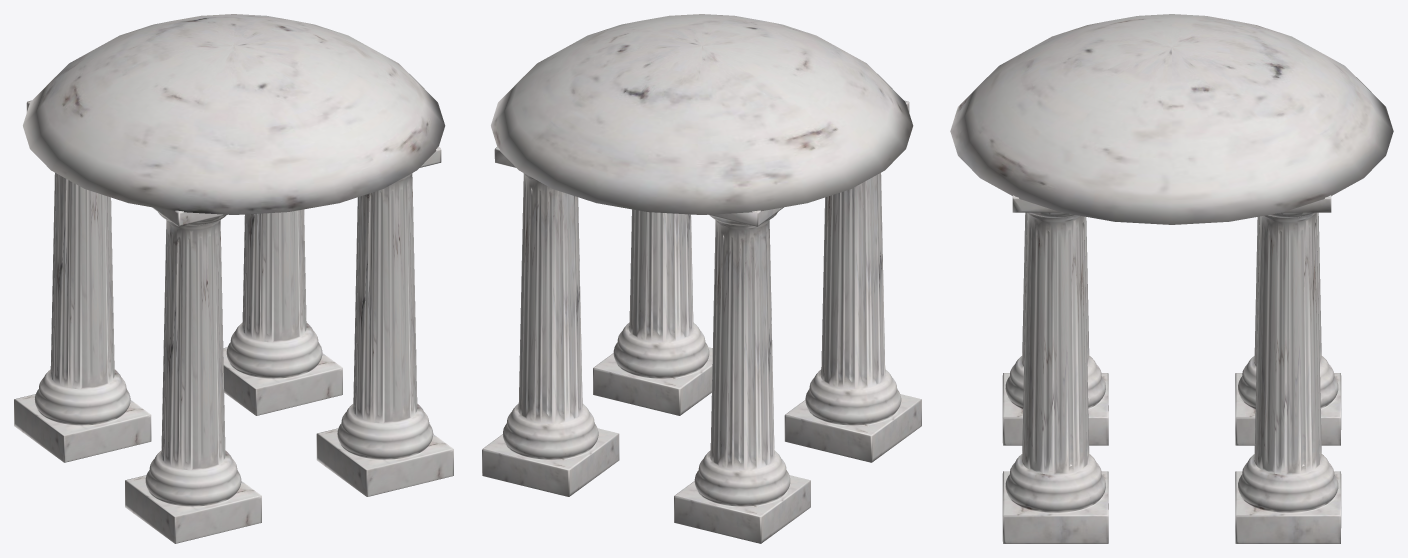
The model's file is atrium.glb.
3 renders of one model, left to right at view 1: azimuth 30°, elevation 25°; view 2: azimuth 150°, elevation 25°; view 3: azimuth 270°, elevation 25°, orthographic. The views are drawn at different scales.
Visible parts, largest first — view 1: atrium; view 2: atrium; view 3: atrium.
Part boxes in pixels (box(x1,y1,x2,y2)): atrium: box(14, 14, 453, 543); atrium: box(482, 14, 921, 543); atrium: box(950, 14, 1393, 543).
Bounding box in the file's own units: 1.91 × 2.02 × 1.91.
Materials: 1 (1 with a texture image).
